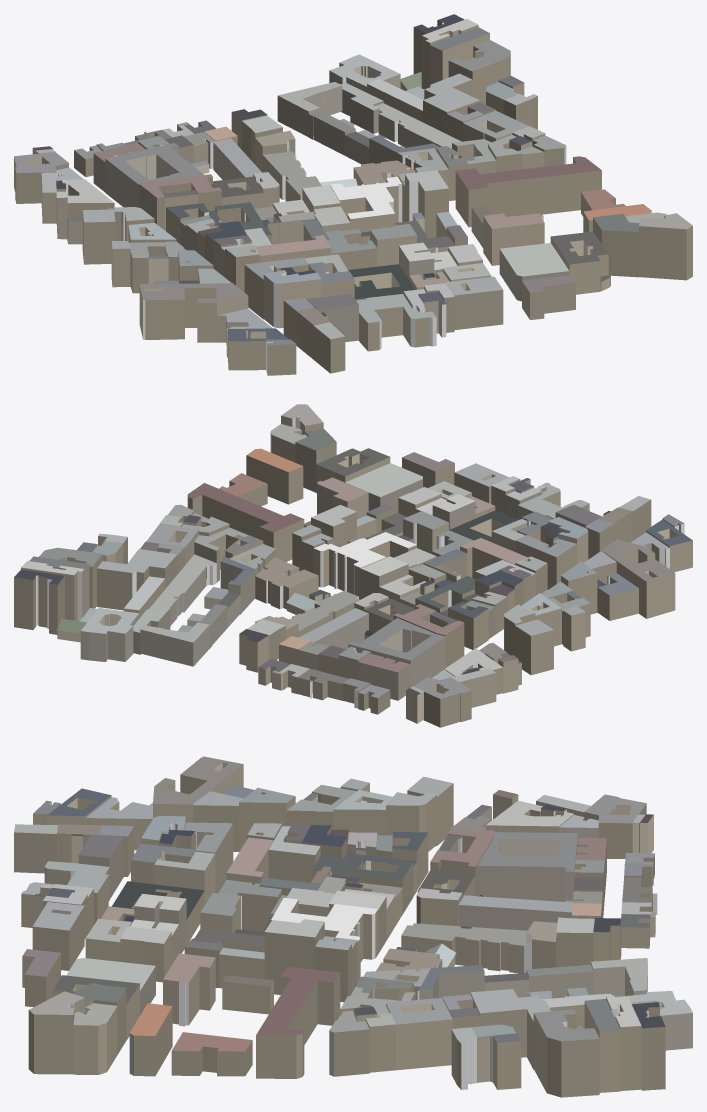
The picture shows the model from 3 angles, top to bottom: view 1: azimuth 30°, elevation 25°; view 2: azimuth 150°, elevation 25°; view 3: azimuth 270°, elevation 25°; orthographic projection. The views are drawn at different scales.
Parts seen in each view (by area): view 1: tuile; view 2: tuile; view 3: tuile.
Boxes of the visible parts, x1,y1,x2,y2 form: tuile: (14,14,692,375); tuile: (14,404,692,727); tuile: (14,756,692,1097).
Bounding box in the file's own units: 284 × 33.92 × 275.
